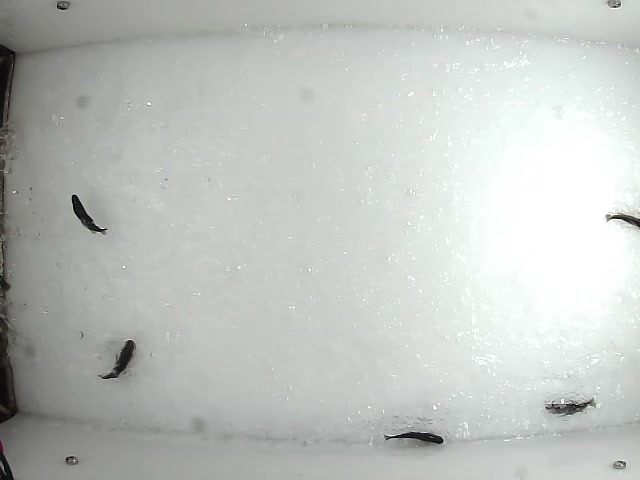fish: (68, 191, 109, 237), (95, 337, 137, 380), (541, 393, 599, 415), (383, 431, 445, 447)
